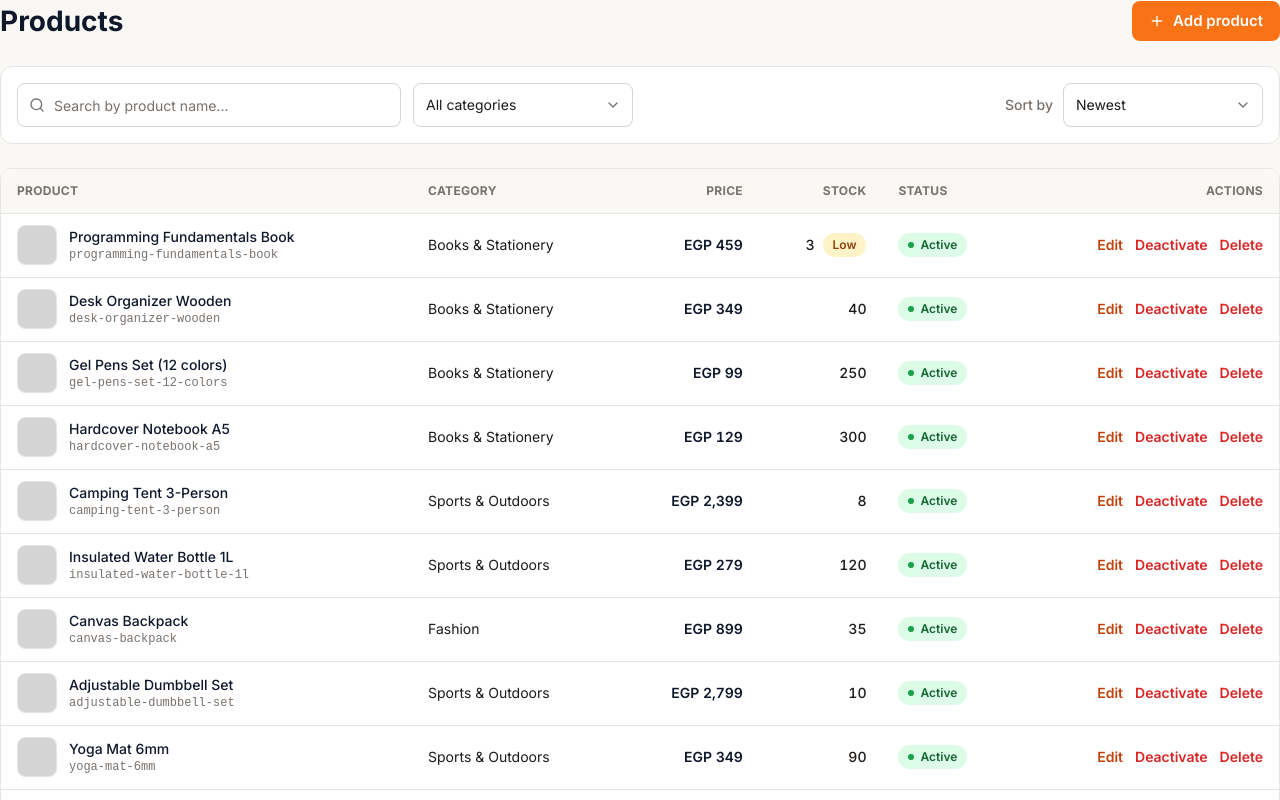
Admin Products page › lists all products (including inactive), filters by category, and toggles Deactivate / Activate
Expected: the heading "Products" is shown, x1=0 y1=0 x2=123 y2=42
Select "Electronics" in the dropdown named "Filter by category" at (523, 105), box x1=413 y1=83 x2=633 y2=127
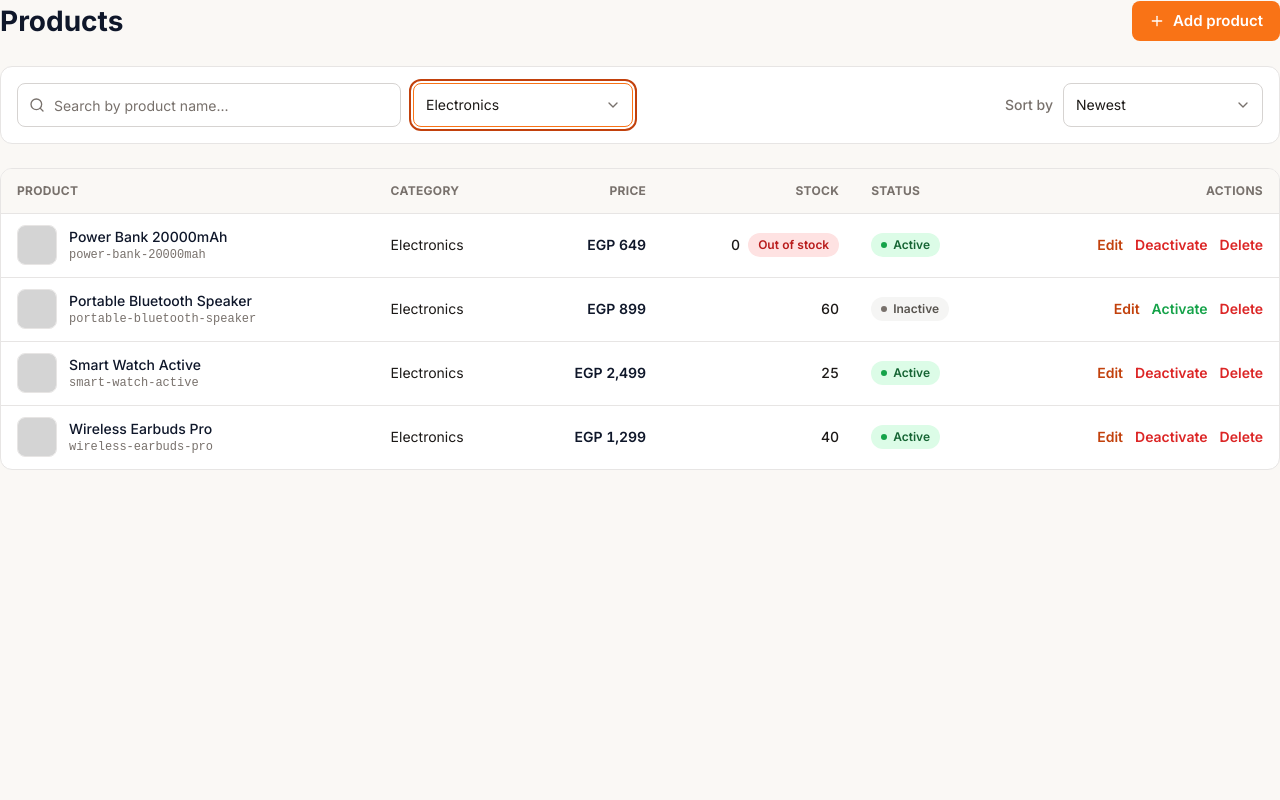
Expected: the text "Wireless Earbuds Pro" is shown 2 times
Note: Activate inactive product
Click the button "Activate" at (1180, 309), box x1=1152 y1=299 x2=1208 y2=319
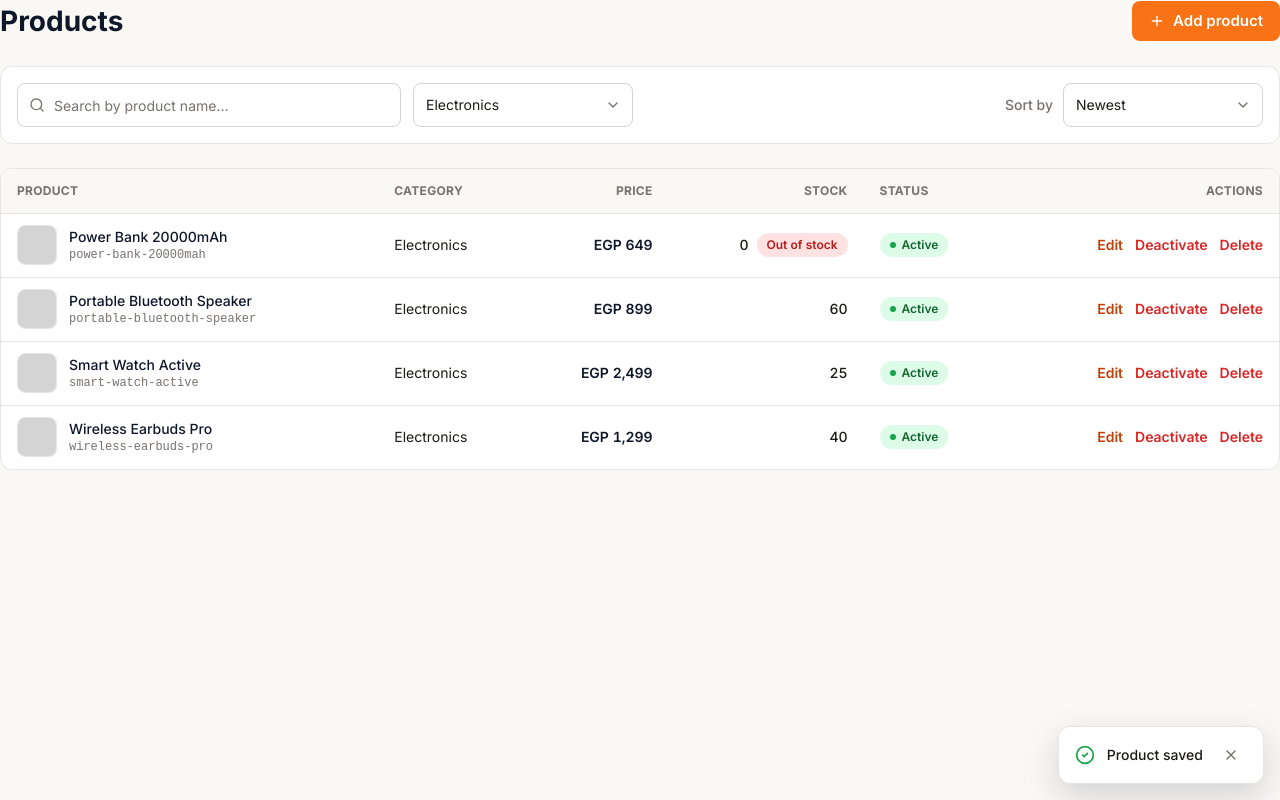
Expected: the text "Product saved" is shown, x1=1107 y1=745 x2=1203 y2=765
Note: Deactivate active product via modal
Click the button "Deactivate" in the row of "Power Bank 20000mAh" at (1171, 245), box x1=1135 y1=235 x2=1208 y2=255
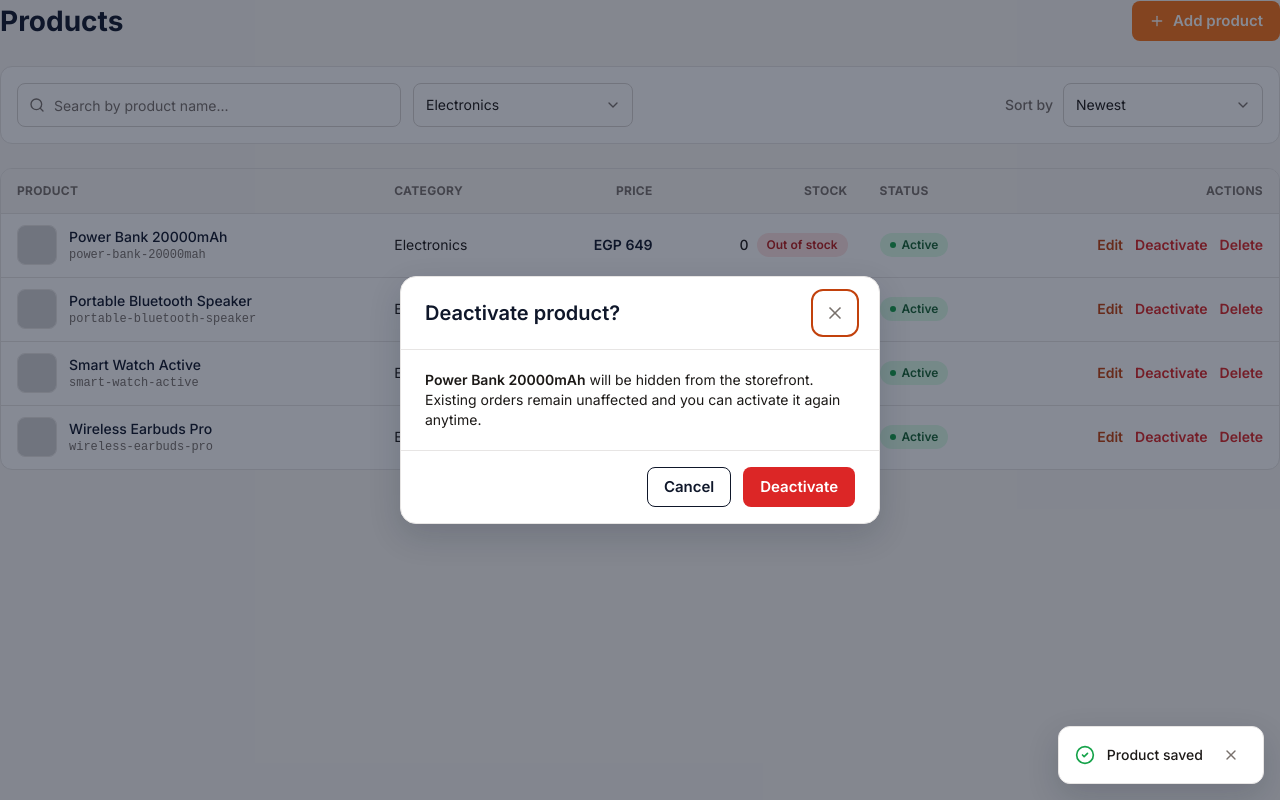
Click the button "Deactivate" at (799, 487), box x1=743 y1=467 x2=855 y2=507
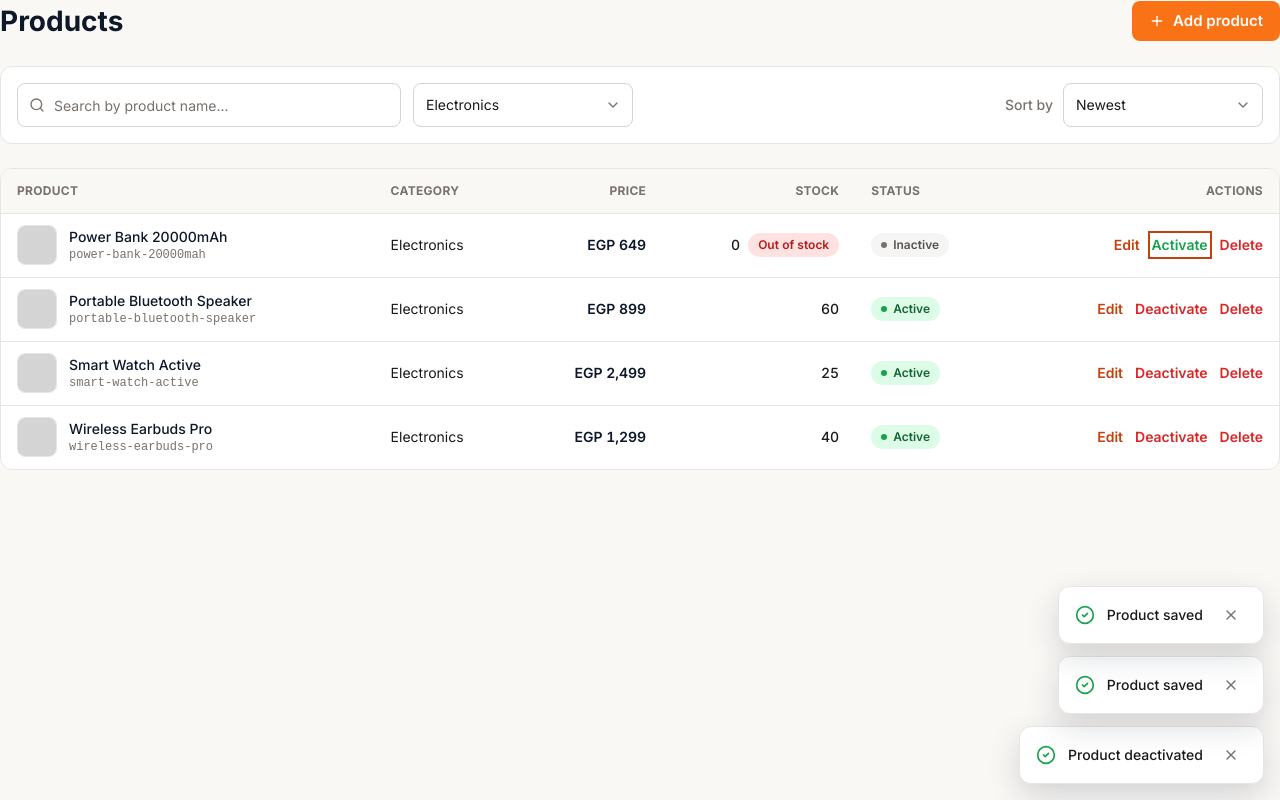
Expected: the text "Product deactivated" is shown, x1=1068 y1=745 x2=1203 y2=765
Expected: the dialog is gone
